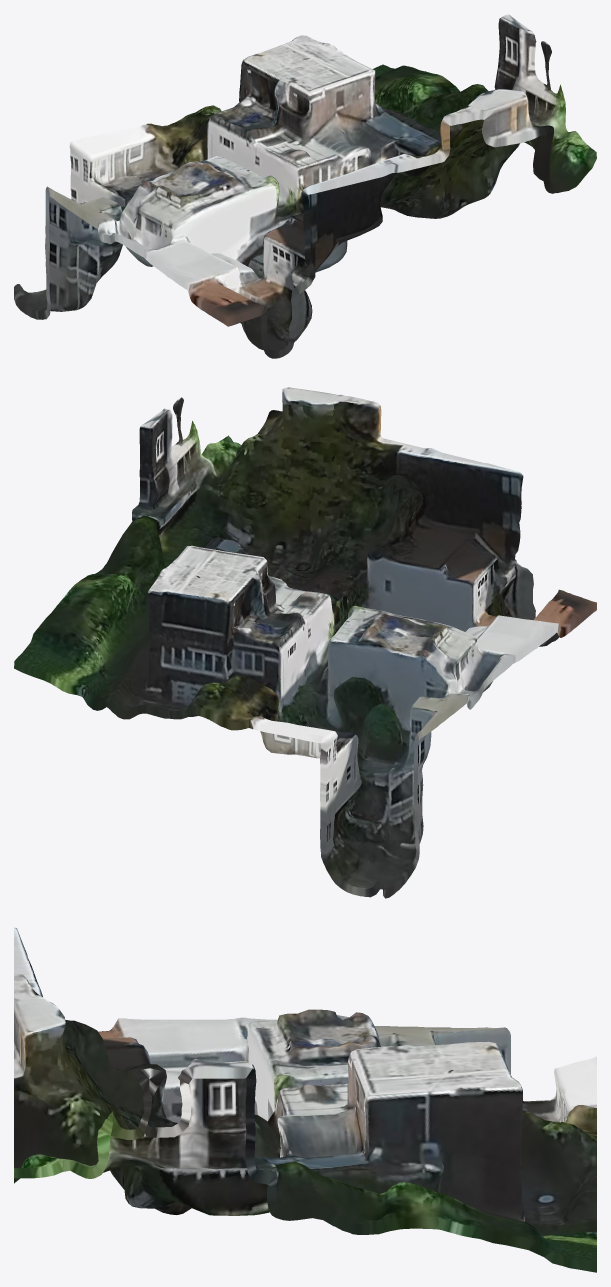
Rendered from z20-167755-405199-h0-yup-uvflip-v3-world.glb.
The picture shows the model from 3 angles, top to bottom: view 1: azimuth 30°, elevation 25°; view 2: azimuth 150°, elevation 25°; view 3: azimuth 270°, elevation 25°; orthographic projection. The views are drawn at different scales.
Bounding box in the file's own units: 30.2 × 23.2 × 30.32.
1 material, 1 textured.
